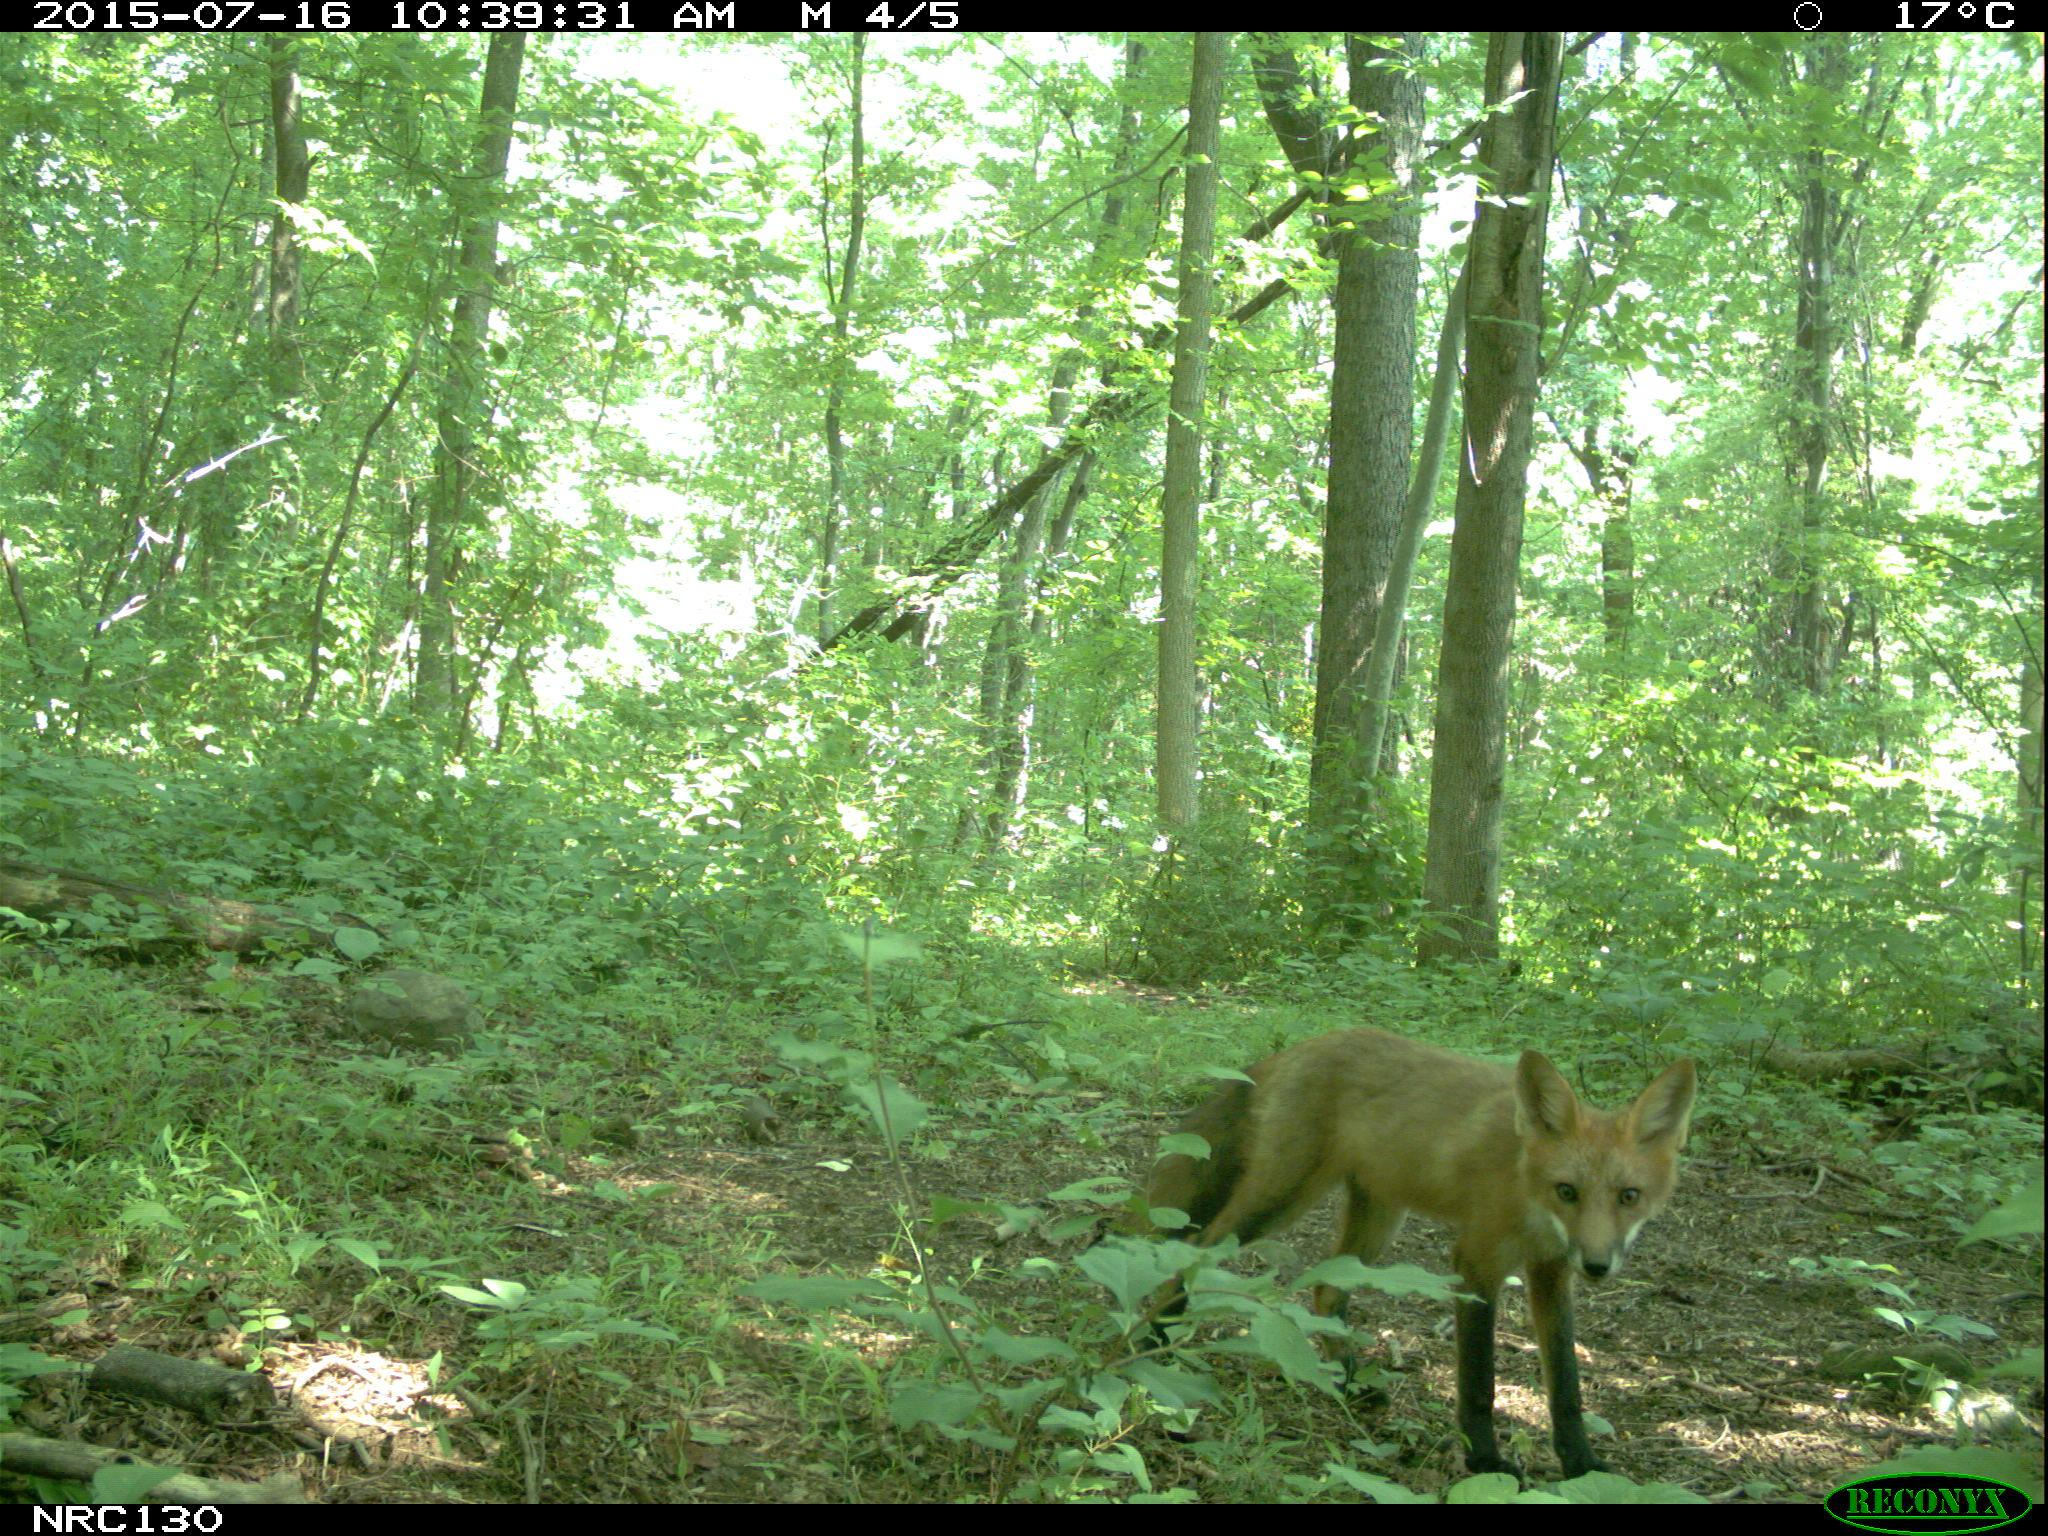Animal: (1127, 1028, 1700, 1476)
